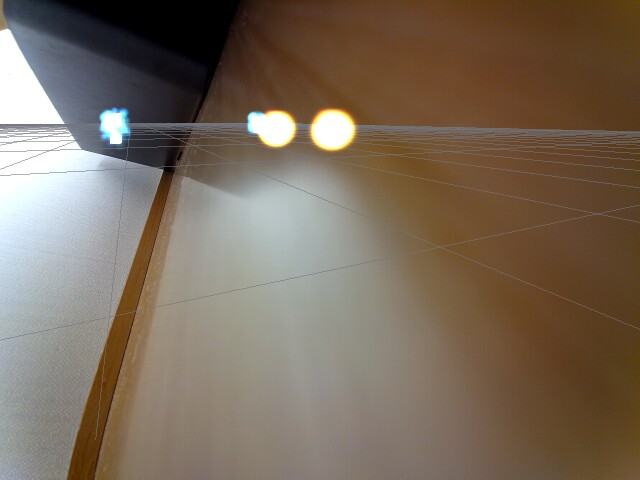firebig: (311, 100, 358, 155)
